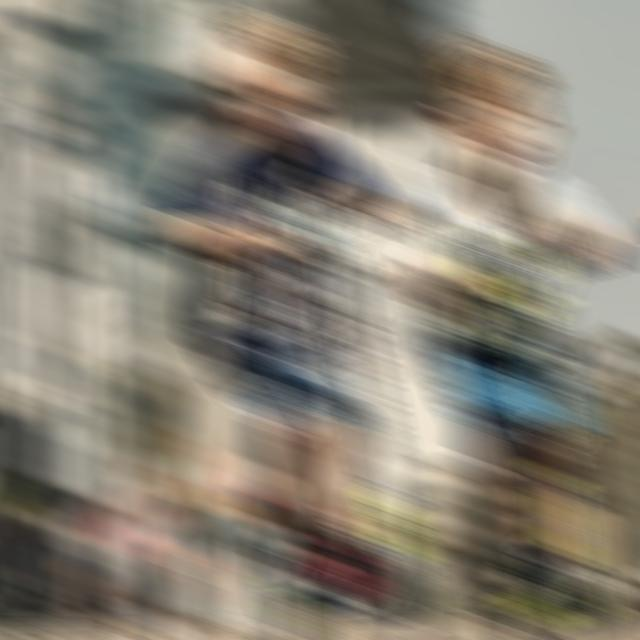Without Helmet: (213, 15, 321, 159), (442, 40, 544, 177)
